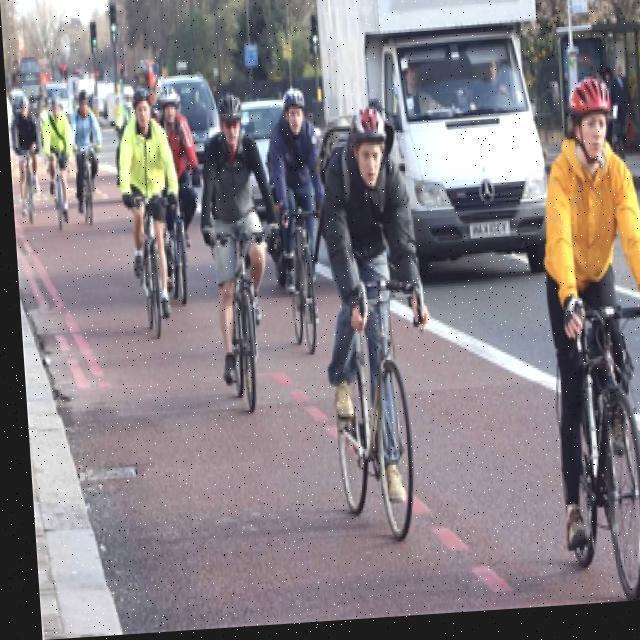Helmet: (564, 81, 619, 181), (343, 110, 392, 192), (212, 90, 246, 156), (278, 86, 312, 144), (126, 84, 154, 134)
